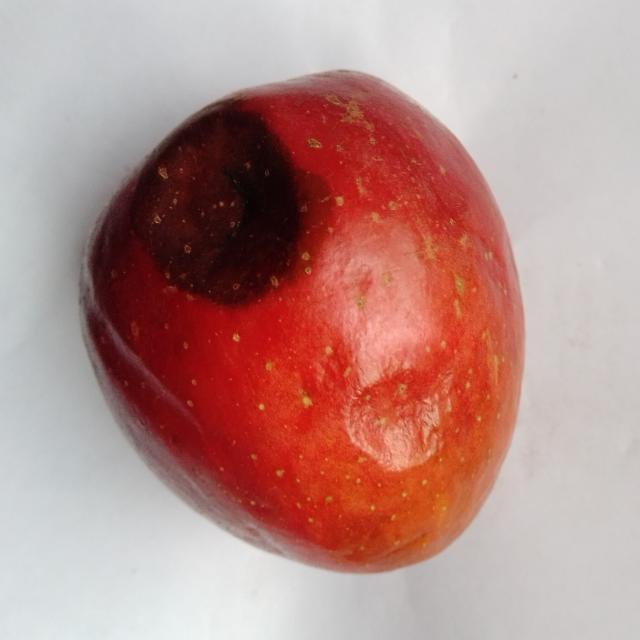apple: (82, 72, 523, 571)
